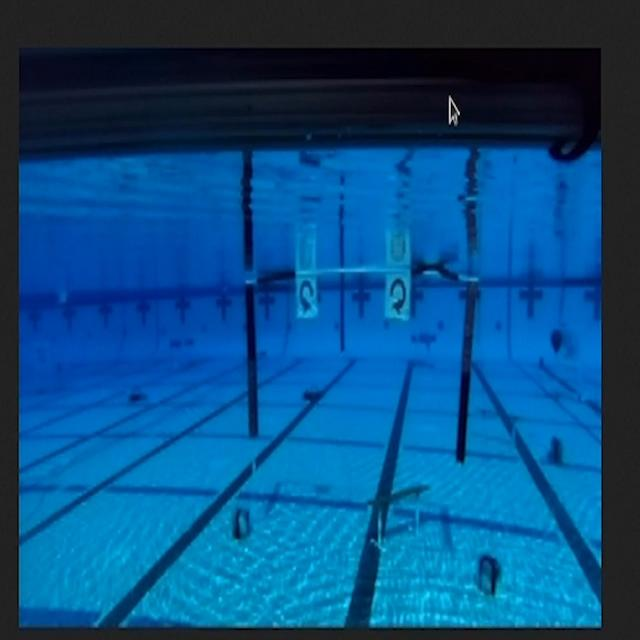Gate: (237, 272, 479, 470), (242, 274, 474, 461)
